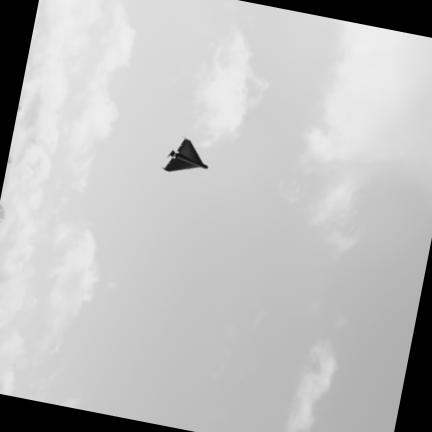Shahed: (162, 138, 207, 171)
